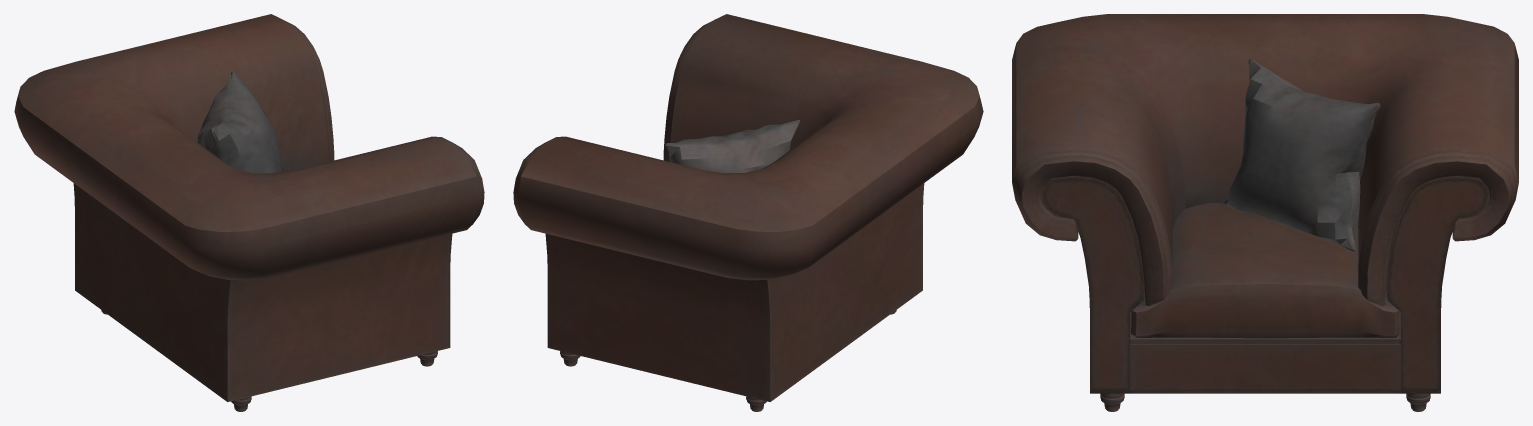
Rendered from armchair-leather.glb.
3 views of the same model, side by side, from view 1: azimuth 30°, elevation 25°; view 2: azimuth 150°, elevation 25°; view 3: azimuth 270°, elevation 25° (orthographic). The views are drawn at different scales.
Visible parts, largest first — view 1: armchair-leather; view 2: armchair-leather; view 3: armchair-leather.
Boxes of the visible parts, x1=… form: armchair-leather: x1=14, y1=14, x2=484, y2=411; armchair-leather: x1=513, y1=14, x2=983, y2=411; armchair-leather: x1=1012, y1=14, x2=1518, y2=411.
Size of the model in its own units: 0.9249 by 0.739 by 1.27.
Materials: 1 (1 with a texture image).
